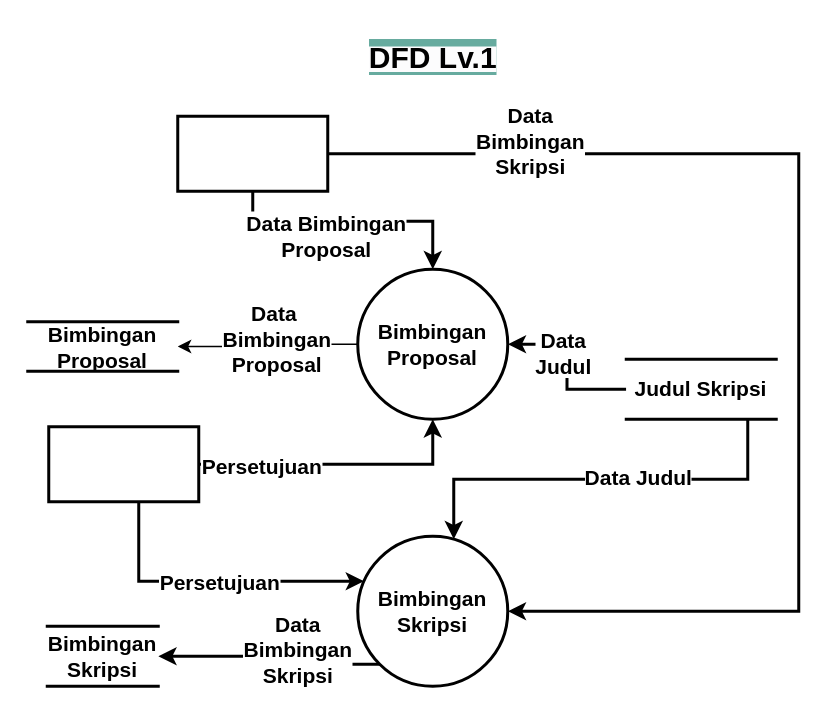
Image size: 837x713. Some labels were removed from this diagram. The centre of each missing label's shape, as x and y in pixels:
"Dosen Pembimbing" belongs at pixel 123 463.
"Mahasiswa" belongs at pixel 252 153.
